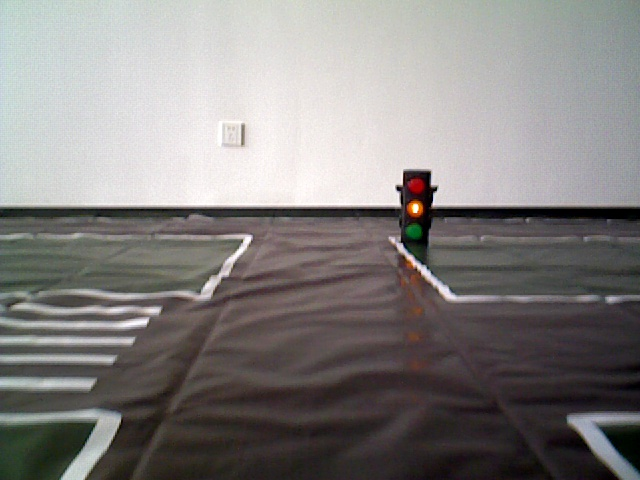yellow: (398, 171, 429, 245)
